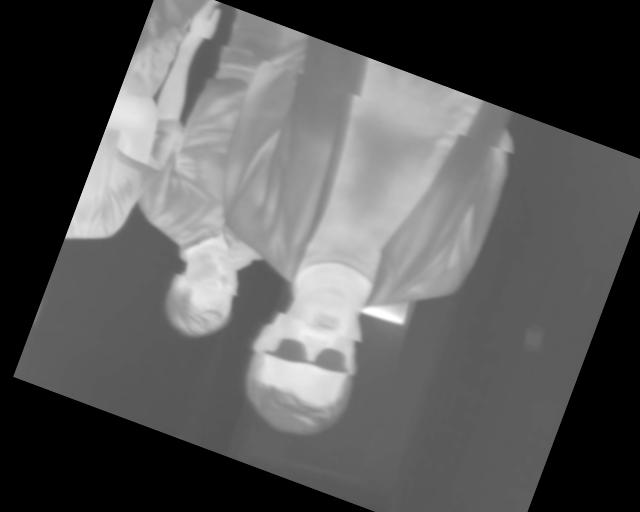face: (227, 278, 378, 450), (152, 233, 254, 349)
